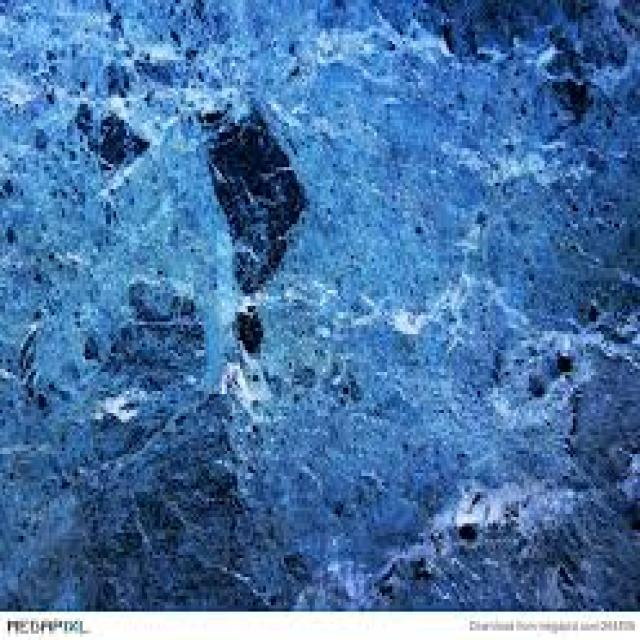Metamorphic: (8, 3, 622, 599)
